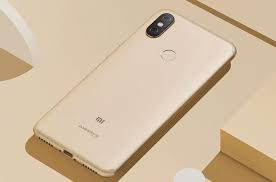mi: (32, 6, 246, 178)
